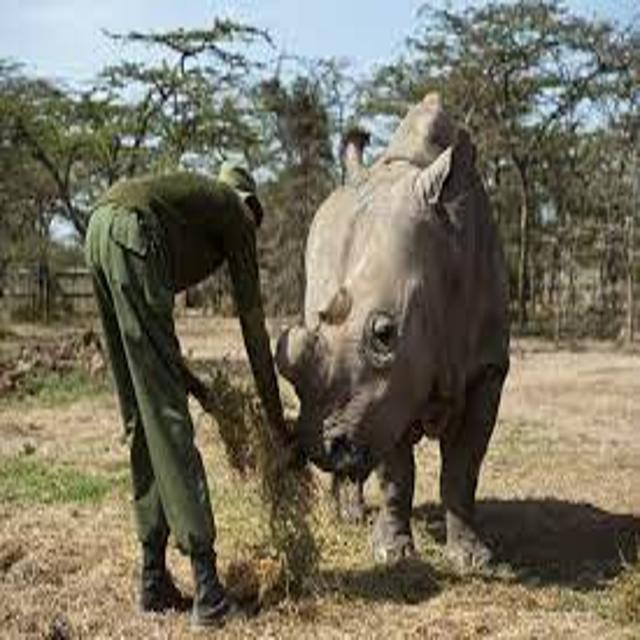poacher: (50, 150, 307, 633)
rhino: (234, 75, 576, 593)
